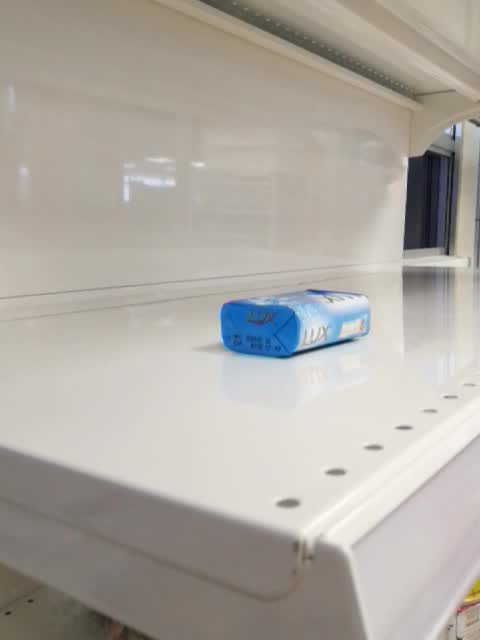soap: (219, 288, 371, 360)
